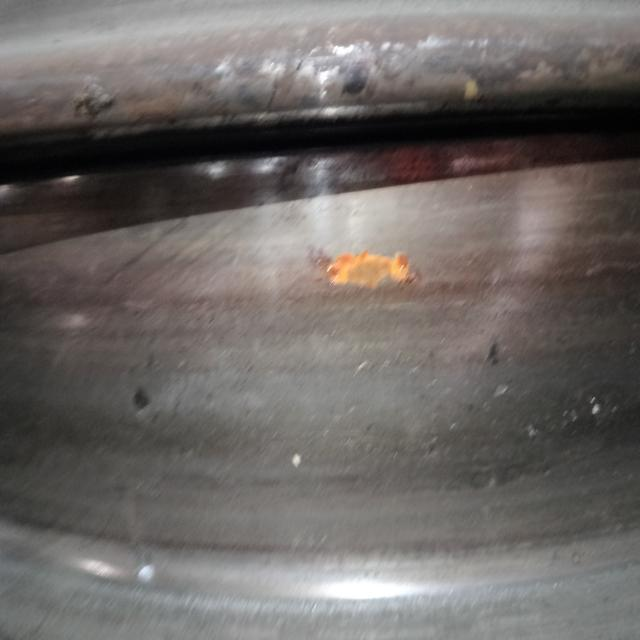Blue hole: (126, 378, 170, 434), (482, 333, 519, 381)
